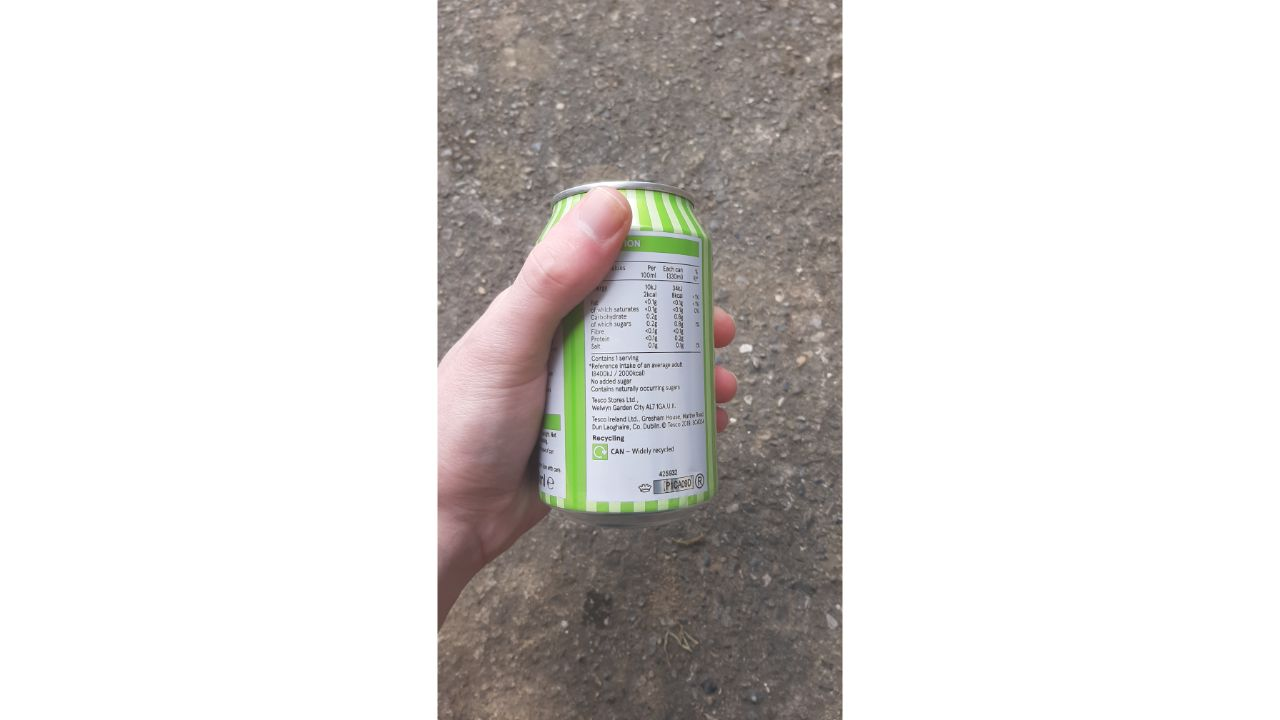Can: (532, 171, 725, 537)
